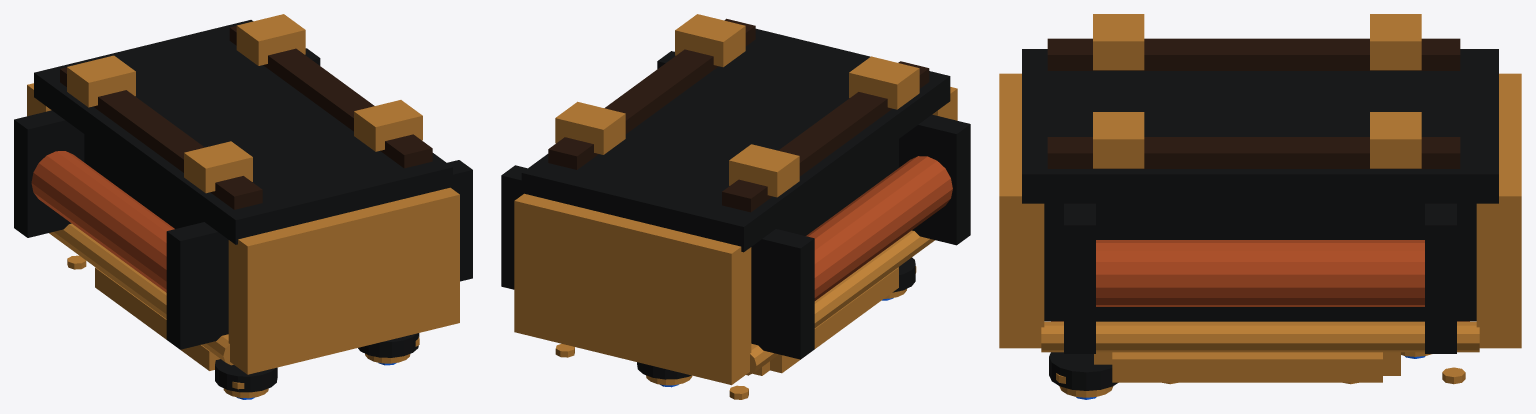
The model's file is SM_Gnome_AetherTek_PowerNexus_FuelCell_01_LOD0.obj.
3 views of the same model, side by side, from view 1: azimuth 30°, elevation 25°; view 2: azimuth 150°, elevation 25°; view 3: azimuth 270°, elevation 25° (orthographic). The views are drawn at different scales.
Parts seen in each view (by area): view 1: RearMount_DarkIron_SocketBackplate, TopLock_Brass_Collar, SideCapacitor_-25_CopperTube, SideCapacitor_-25_DarkIronTopClamp, SideCapacitor_-25_DarkIronBottomClamp, RearLeather_Strap_18, RearLeather_Strap_-18, SideRail_-25_BrassRoundSpine, Housing_DarkIron_CartridgeBody, RearMount_Brass_Lug_18_Lower, RearMount_Brass_Lug_-18_Upper, RearMount_Brass_Lug_-18_Lower (+5 smaller); view 2: RearMount_DarkIron_SocketBackplate, BottomLock_Brass_Collar, SideCapacitor_-25_CopperTube, SideCapacitor_-25_DarkIronBottomClamp, SideCapacitor_-25_DarkIronTopClamp, RearLeather_Strap_18, RearLeather_Strap_-18, SideRail_-25_BrassRoundSpine, Housing_DarkIron_CartridgeBody, RearMount_Brass_Lug_18_Upper, RearMount_Brass_Lug_-18_Lower, RearMount_Brass_Lug_-18_Upper (+6 smaller); view 3: RearMount_DarkIron_SocketBackplate, SideCapacitor_25_CopperTube, Housing_DarkIron_CartridgeBody, SideRail_25_BrassRoundSpine, RearLeather_Strap_-18, RearLeather_Strap_18, TopLock_Brass_Collar, BottomLock_Brass_Collar, LensGuard_Brass_RightRail, SideCapacitor_25_DarkIronTopClamp, SideCapacitor_25_DarkIronBottomClamp, RearMount_Brass_Lug_-18_Lower (+4 smaller).
Boxes of the visible parts, box(x1,y1,x2,y2) form: RearMount_DarkIron_SocketBackplate: box(34, 20, 452, 244); TopLock_Brass_Collar: box(228, 187, 459, 374); SideCapacitor_-25_CopperTube: box(31, 151, 174, 292); SideCapacitor_-25_DarkIronTopClamp: box(166, 222, 228, 349); SideCapacitor_-25_DarkIronBottomClamp: box(14, 110, 84, 237); RearLeather_Strap_18: box(229, 26, 432, 168); RearLeather_Strap_-18: box(60, 67, 262, 209); SideRail_-25_BrassRoundSpine: box(49, 223, 233, 365); Housing_DarkIron_CartridgeBody: box(84, 134, 203, 228); RearMount_Brass_Lug_18_Lower: box(236, 14, 305, 65); RearMount_Brass_Lug_-18_Upper: box(184, 141, 252, 193); RearMount_Brass_Lug_-18_Lower: box(67, 55, 135, 107); RearMount_DarkIron_SocketBackplate: box(521, 28, 950, 252); BottomLock_Brass_Collar: box(514, 193, 751, 385); SideCapacitor_-25_CopperTube: box(806, 156, 952, 300); SideCapacitor_-25_DarkIronBottomClamp: box(751, 229, 814, 359); SideCapacitor_-25_DarkIronTopClamp: box(899, 114, 970, 245); RearLeather_Strap_18: box(548, 18, 755, 169); RearLeather_Strap_-18: box(722, 61, 929, 212); SideRail_-25_BrassRoundSpine: box(746, 230, 934, 375); Housing_DarkIron_CartridgeBody: box(776, 139, 898, 235); RearMount_Brass_Lug_18_Upper: box(675, 14, 745, 67); RearMount_Brass_Lug_-18_Lower: box(729, 144, 799, 197); RearMount_Brass_Lug_-18_Upper: box(849, 56, 919, 109); RearMount_DarkIron_SocketBackplate: box(1022, 49, 1498, 203); SideCapacitor_25_CopperTube: box(1096, 240, 1424, 306); Housing_DarkIron_CartridgeBody: box(1044, 203, 1476, 321); SideRail_25_BrassRoundSpine: box(1041, 321, 1479, 352); RearLeather_Strap_-18: box(1047, 38, 1460, 70); RearLeather_Strap_18: box(1047, 137, 1460, 168); TopLock_Brass_Collar: box(999, 73, 1044, 348); BottomLock_Brass_Collar: box(1476, 73, 1521, 348); LensGuard_Brass_RightRail: box(1112, 352, 1382, 382); SideCapacitor_25_DarkIronTopClamp: box(1064, 203, 1095, 353); SideCapacitor_25_DarkIronBottomClamp: box(1425, 203, 1456, 353); RearMount_Brass_Lug_-18_Lower: box(1370, 14, 1421, 70).
Bounding box in the file's own units: 62 × 47.4 × 81.
